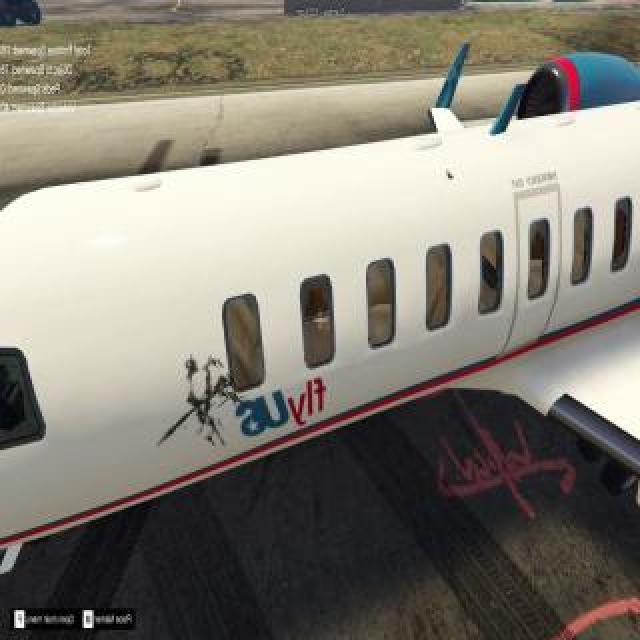crack: (447, 172, 455, 182)
dent: (186, 357, 230, 416), (163, 407, 198, 444), (197, 409, 220, 436), (228, 391, 243, 406)
